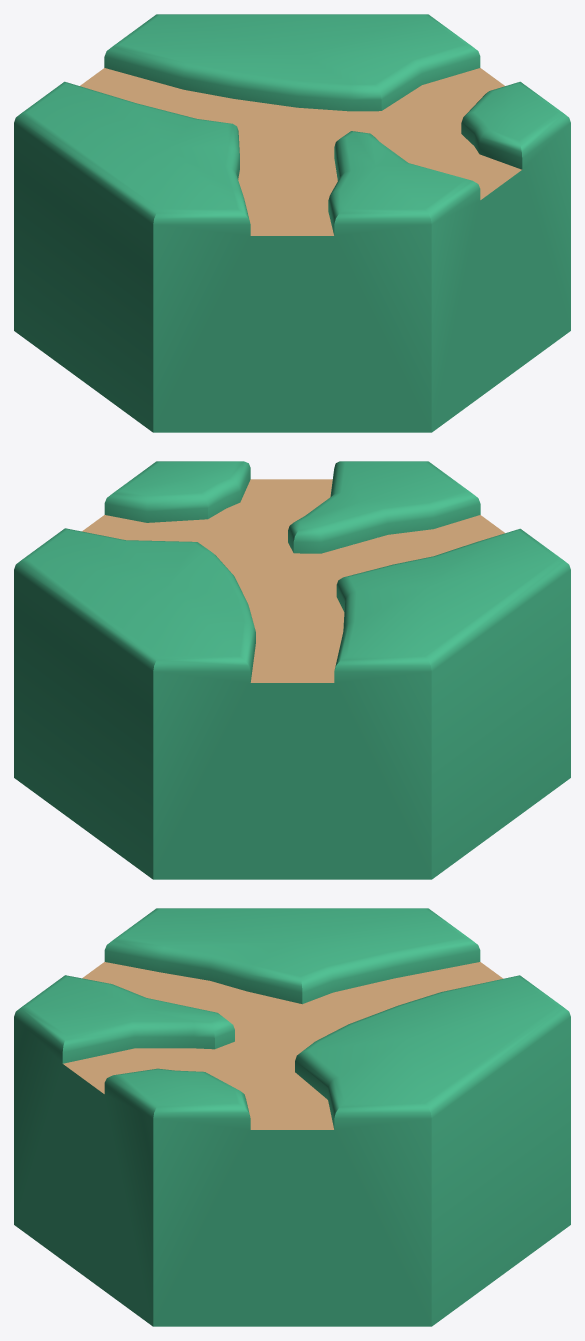
File: kaykit-hex-forest-roadi.glb
The picture shows the model from 3 angles, top to bottom: view 1: azimuth 30°, elevation 25°; view 2: azimuth 150°, elevation 25°; view 3: azimuth 270°, elevation 25°; orthographic projection.
Visible parts, largest first — view 1: hex_forest_roadI; view 2: hex_forest_roadI; view 3: hex_forest_roadI.
Boxes of the visible parts, left/top/right/bottom form: hex_forest_roadI: left=14, top=14, right=570, bottom=432; hex_forest_roadI: left=14, top=461, right=570, bottom=879; hex_forest_roadI: left=14, top=908, right=570, bottom=1326.
Size of the model in its own units: 2 by 1 by 2.31.
